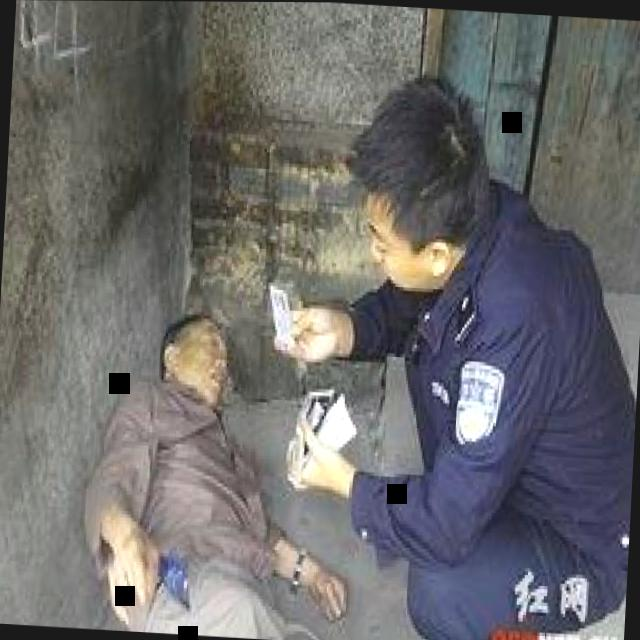Fall-Detected: (74, 271, 419, 640)
